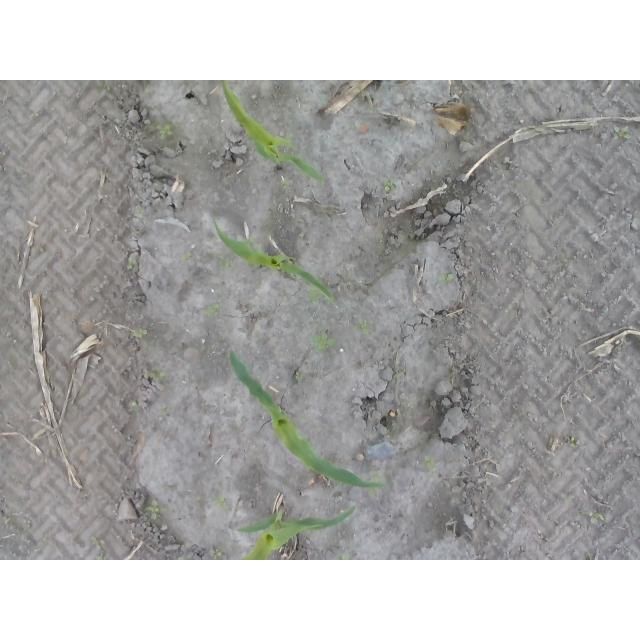Maize: (230, 349, 389, 491), (212, 215, 337, 305), (220, 81, 325, 185), (234, 503, 358, 559)
Weeds: (312, 333, 336, 352), (366, 473, 386, 495), (583, 507, 605, 526), (146, 500, 166, 520), (612, 126, 632, 143), (420, 456, 436, 473), (201, 303, 219, 318), (157, 125, 174, 140), (356, 320, 373, 334), (149, 369, 165, 383), (217, 498, 230, 511), (132, 330, 148, 339), (209, 550, 223, 560), (219, 259, 233, 269), (441, 274, 455, 283), (386, 181, 398, 191), (295, 371, 305, 381), (571, 439, 582, 448), (183, 252, 193, 261), (128, 260, 137, 270), (282, 180, 291, 189), (163, 409, 170, 415), (132, 402, 137, 410)
